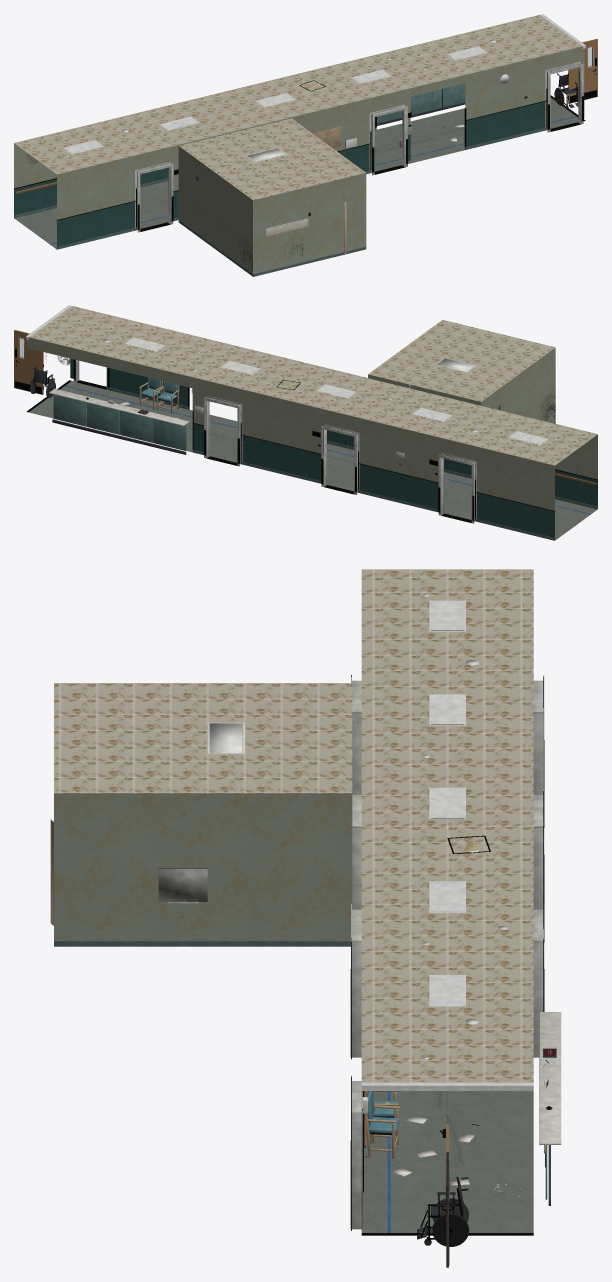
File: room104_set.glb
3 renders of one model, top to bottom at view 1: azimuth 30°, elevation 25°; view 2: azimuth 150°, elevation 25°; view 3: azimuth 270°, elevation 25°, orthographic. The views are drawn at different scales.
Parts seen in each view (by area): view 1: set_ceiling_tile, set_wall_paint, props, set_wainscot, set_floor_vinyl, doorleaf, wheelchair.001; view 2: set_ceiling_tile, set_wall_paint, props, set_wainscot, set_floor_vinyl, doorleaf, set_decals, wheelchair.001; view 3: set_ceiling_tile, set_wall_paint, props, set_floor_vinyl, wheelchair.001.
Part boxes in pixels (box(x1,y1,x2,y2)): set_ceiling_tile: box(14, 15, 582, 200); set_wall_paint: box(14, 27, 584, 273); props: box(14, 14, 585, 276); set_wainscot: box(14, 92, 584, 246); set_floor_vinyl: box(14, 98, 578, 248); doorleaf: box(568, 38, 597, 103); wheelchair.001: box(554, 73, 578, 109); set_ceiling_tile: box(29, 306, 597, 465); set_wall_paint: box(27, 309, 597, 510); props: box(26, 305, 597, 540); set_wainscot: box(70, 359, 597, 537); set_floor_vinyl: box(29, 381, 597, 540); doorleaf: box(14, 330, 43, 394); set_decals: box(46, 353, 555, 459); wheelchair.001: box(29, 367, 55, 397); set_ceiling_tile: box(54, 569, 533, 1082); set_wall_paint: box(54, 793, 352, 940); props: box(50, 594, 561, 1235); set_floor_vinyl: box(361, 1091, 533, 1232); wheelchair.001: box(417, 1177, 469, 1246).
Size of the model in its own units: 21.1 by 2.9 by 8.31.
Materials: 14 (13 with a texture image).
